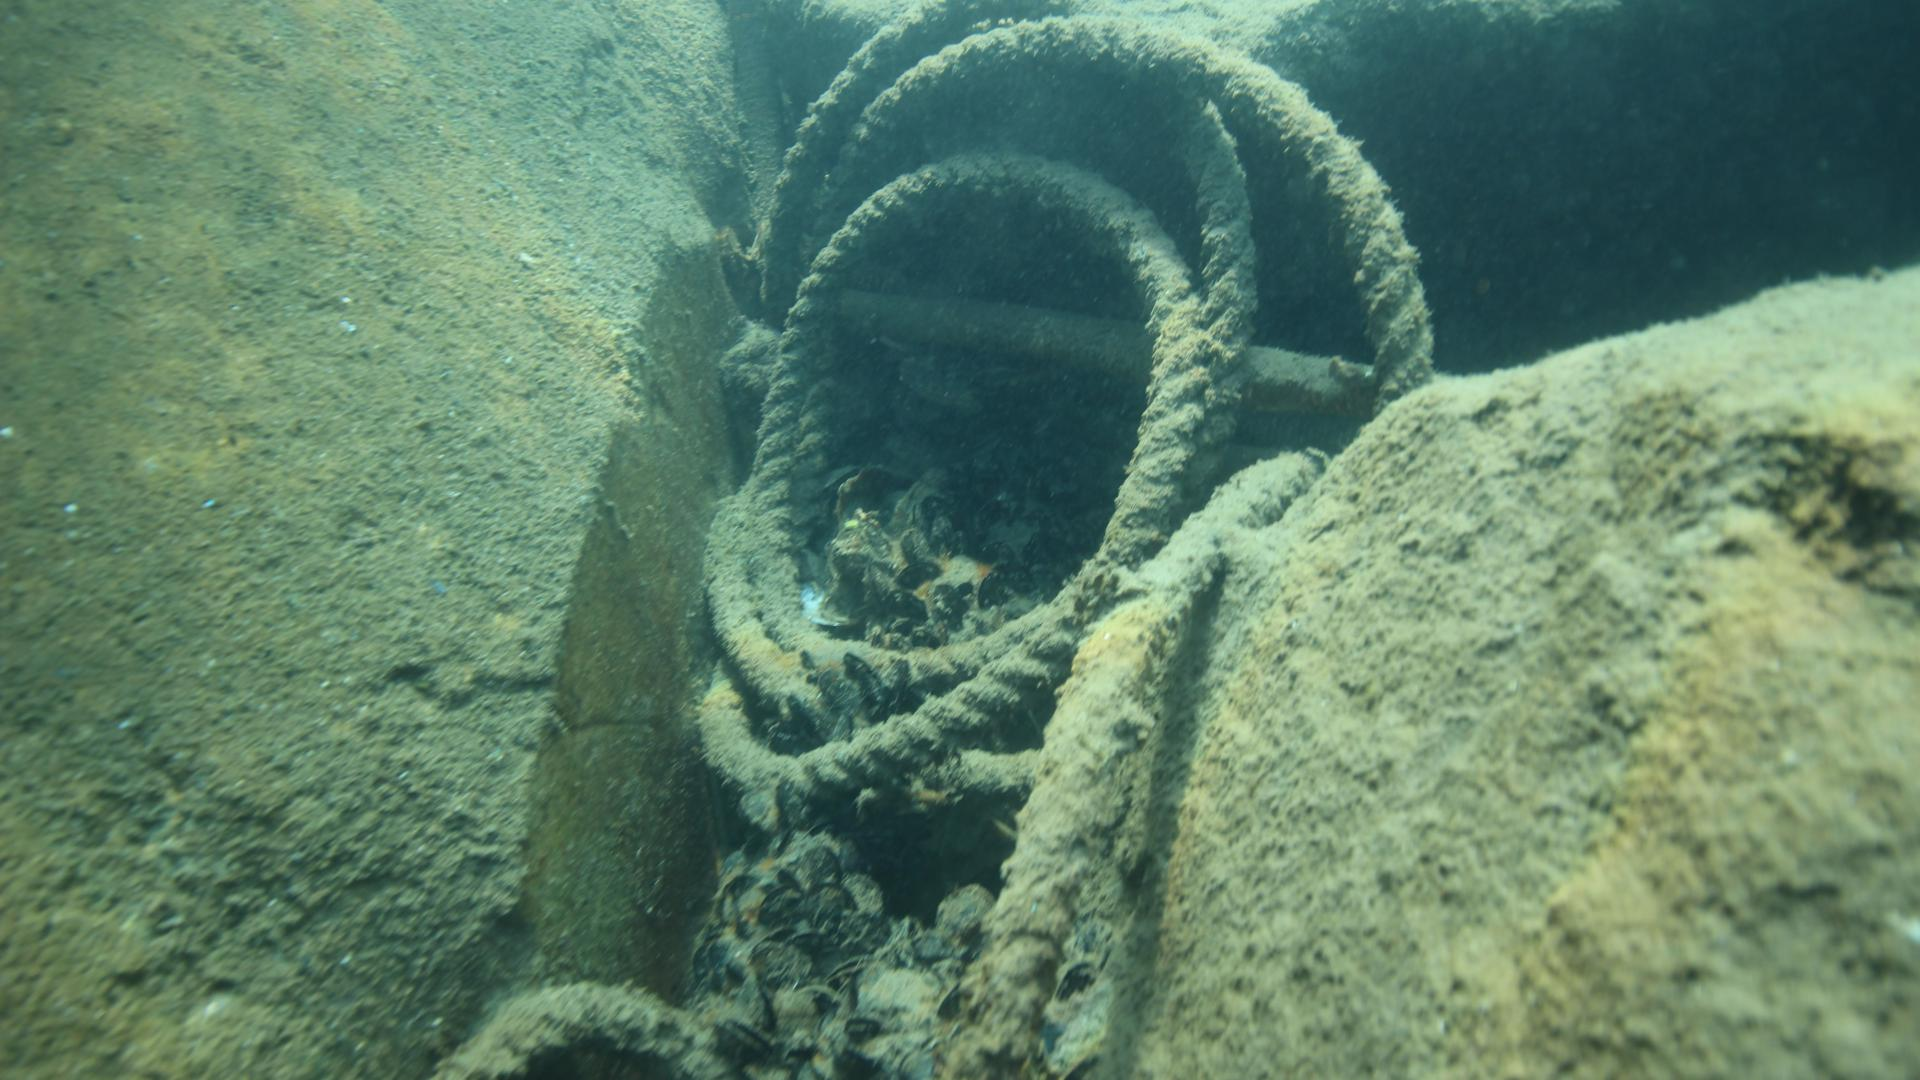bundle of ropes: (435, 0, 1441, 1080)
